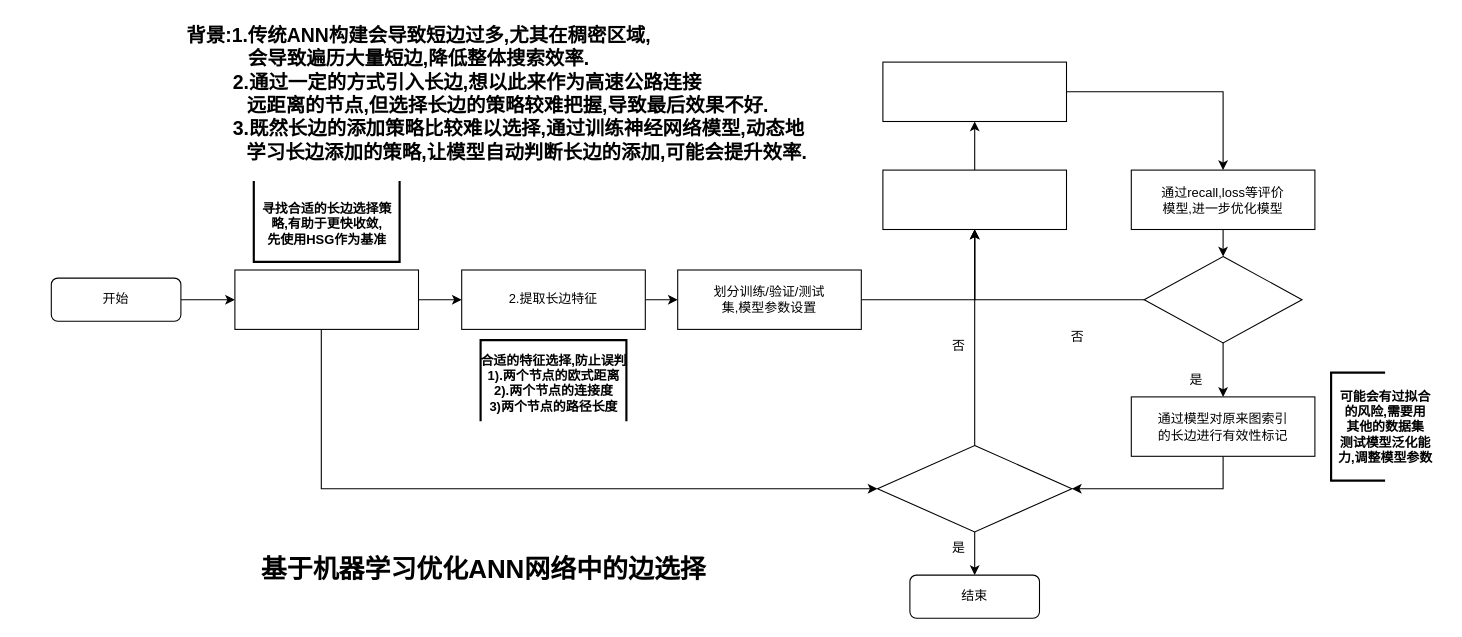
This 1462x637 diagram has some shape labels left out. The shapes that lost their labels are listed below. From the top down, each one's centre as x and y in pixels, then its label:
(x=974, y=91): 评判标准,例如: P>0.6?有效;剩余无效
(x=974, y=199): 训练二分类模型(神经网络)
(x=326, y=299): 1.通过索引图构建算法构建索引,并标记一些边作为长边
(x=1222, y=299): 是否迭代了一定轮次(n)
(x=974, y=488): 3.是否优化后的图的相应 指标有充分地提升?(qps)
